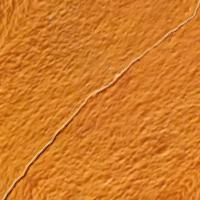crack: (0, 68, 117, 199)
